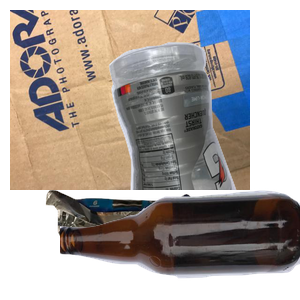cardboard: (10, 10, 250, 190)
glass: (60, 188, 300, 300)
plastic: (106, 40, 300, 220)
trash: (43, 187, 234, 300)
